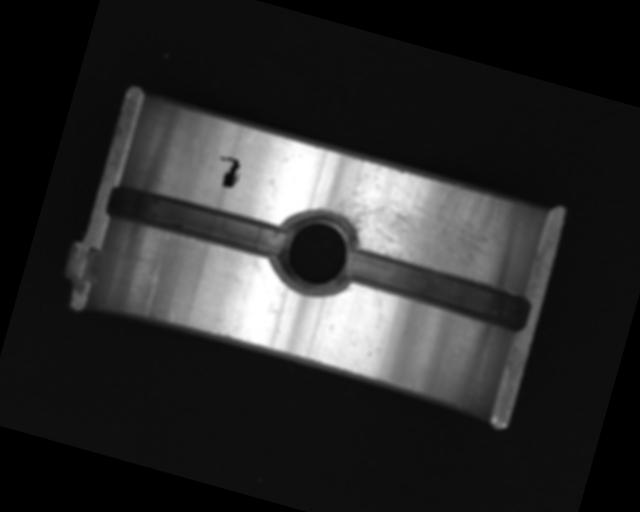blot: (213, 152, 244, 191)
gap: (342, 245, 534, 333), (105, 180, 288, 263)
hole: (267, 201, 365, 298)
nick: (140, 262, 165, 314)
scratch: (320, 155, 518, 286)
